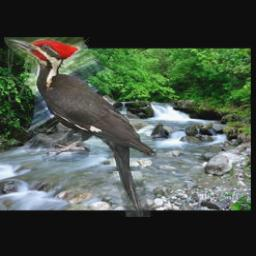Woodpecker: (5, 38, 158, 218)
